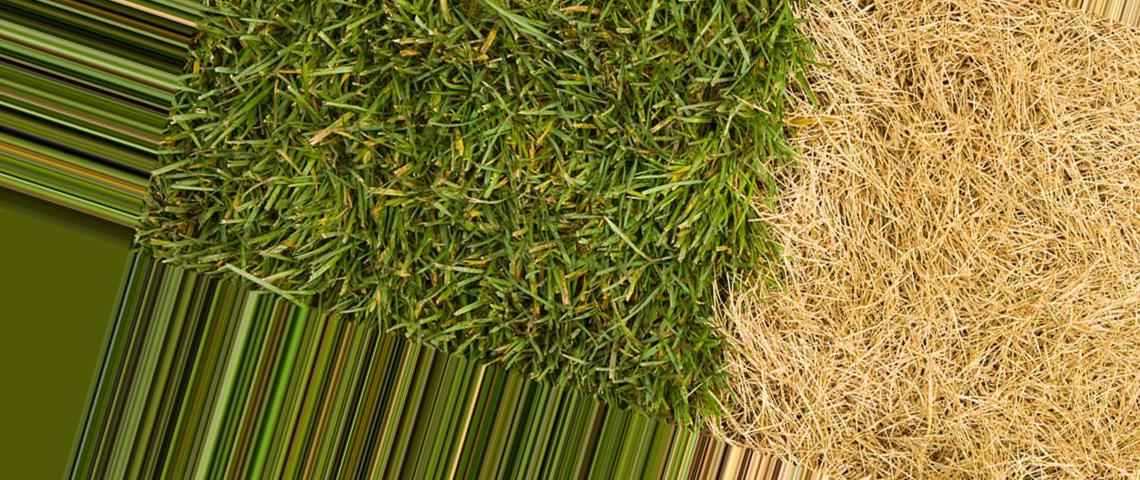patch: (849, 49, 996, 318), (1009, 44, 1120, 311), (903, 326, 1068, 465), (779, 276, 886, 441)
